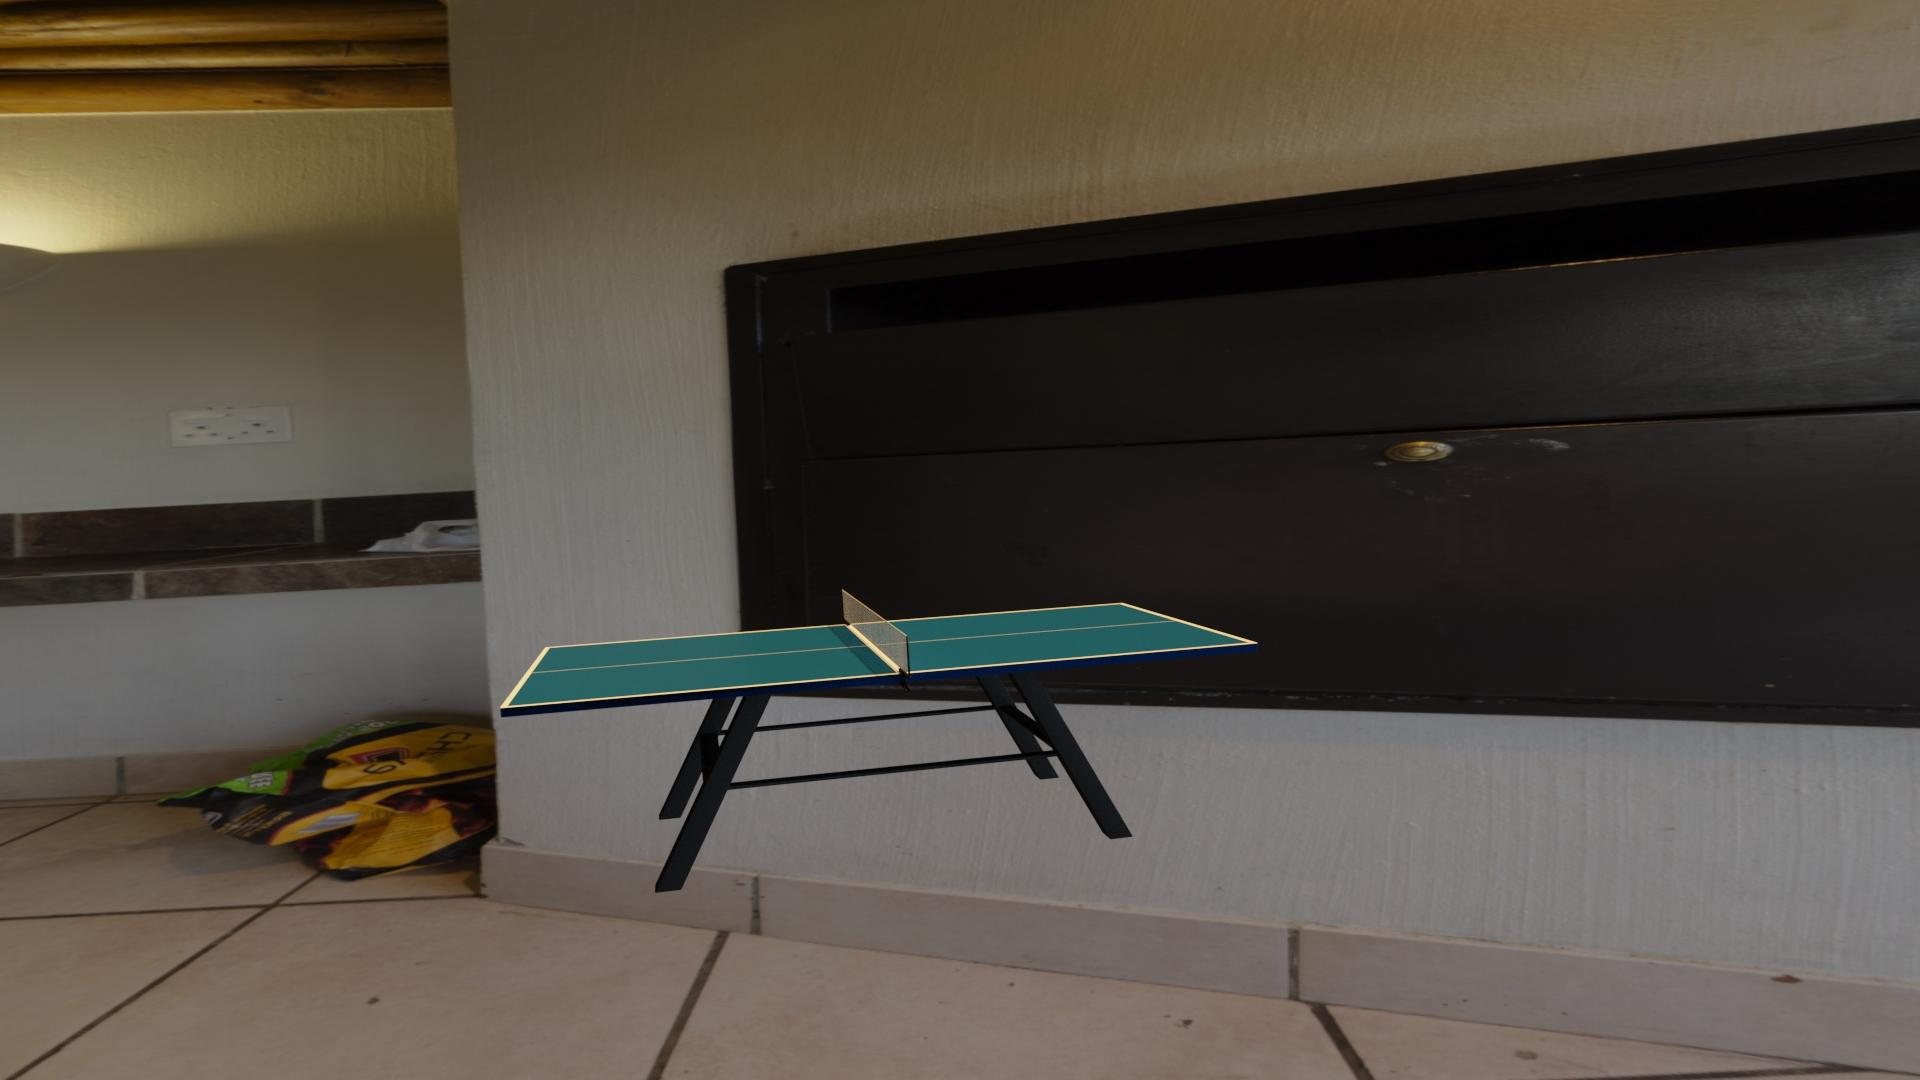table: (506, 604, 1250, 707)
